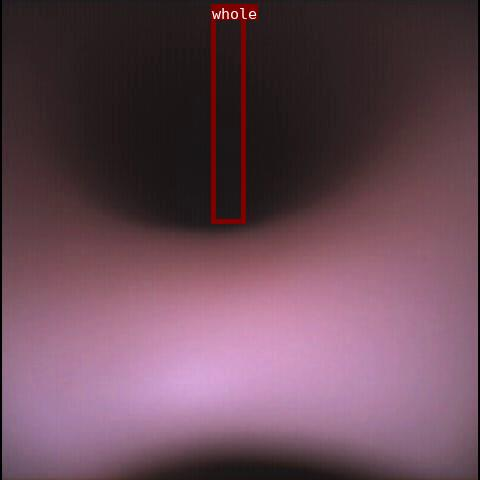whole: (211, 4, 245, 223)
